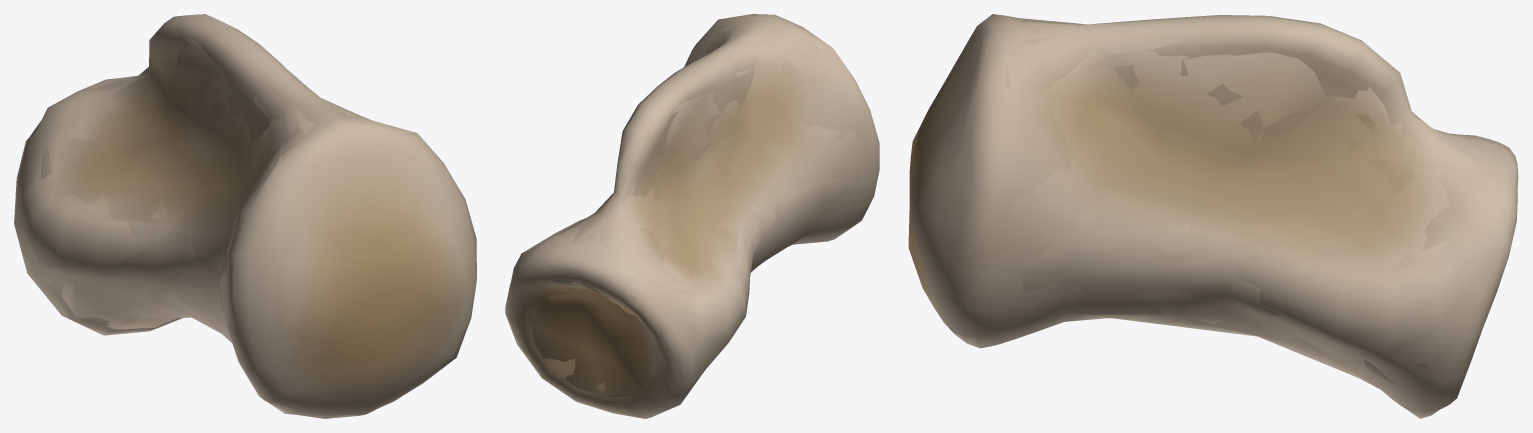
File: vertebrae caudales 02.fbx
3 renders of one model, left to right at view 1: azimuth 30°, elevation 25°; view 2: azimuth 150°, elevation 25°; view 3: azimuth 270°, elevation 25°, orthographic. The views are drawn at different scales.
Parts seen in each view (by area): view 1: vertebrae caudales 02, vertebrae caudales 02 low; view 2: vertebrae caudales 02, vertebrae caudales 02 low; view 3: vertebrae caudales 02, vertebrae caudales 02 low.
Boxes of the visible parts, x1,y1,x2,y2 form: vertebrae caudales 02: (14,14,476,418); vertebrae caudales 02 low: (41,37,427,356); vertebrae caudales 02: (505,14,879,418); vertebrae caudales 02 low: (528,22,858,396); vertebrae caudales 02: (908,14,1518,418); vertebrae caudales 02 low: (915,18,1485,395).
Size of the model in its own units: 3.21 by 4.16 by 6.
1 material, 1 textured.
